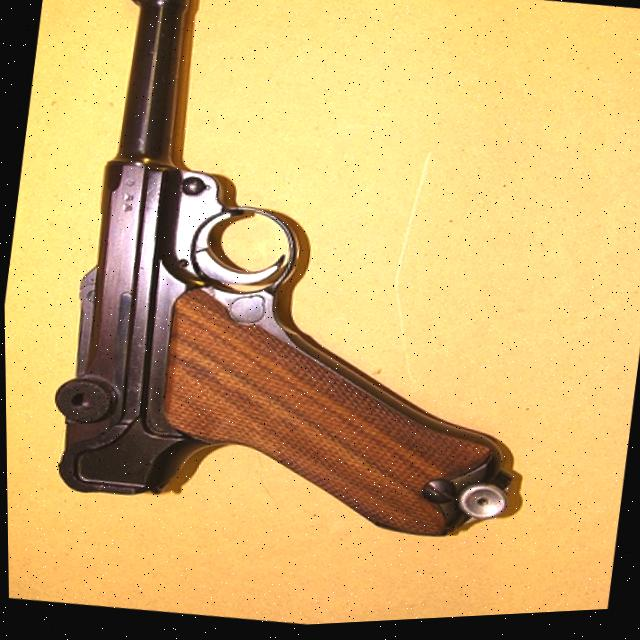pistol: (26, 0, 595, 577)
